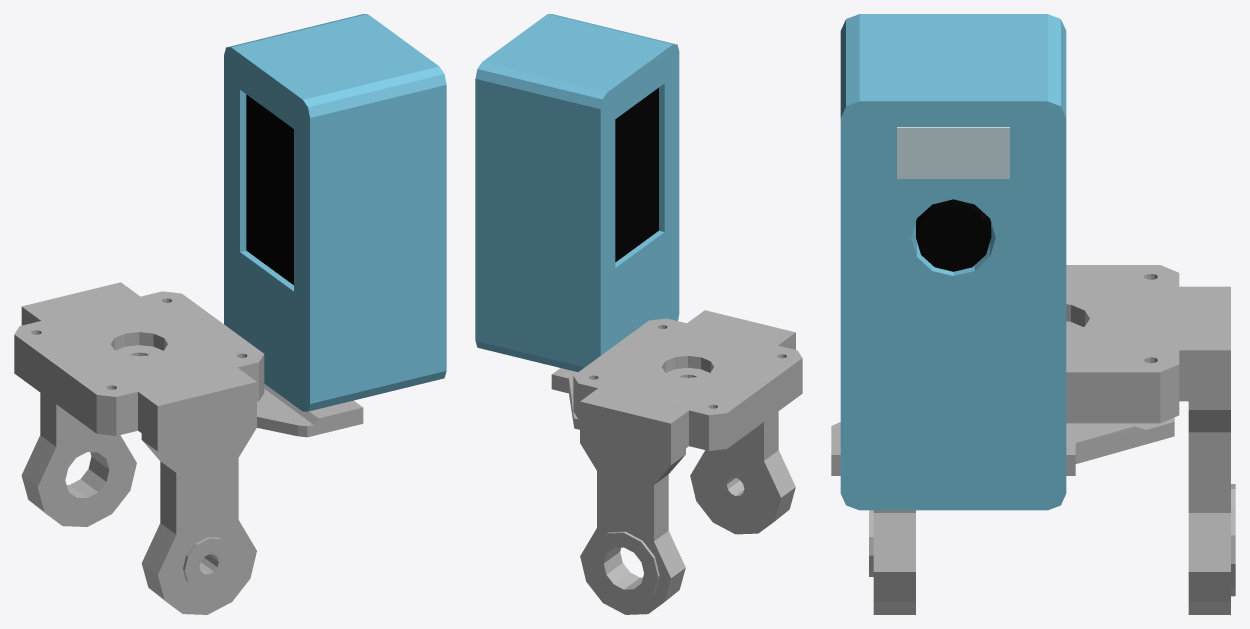
Rendered from head-leye-y_mesh.glb.
The picture shows the model from 3 angles, left to right: view 1: azimuth 30°, elevation 25°; view 2: azimuth 150°, elevation 25°; view 3: azimuth 270°, elevation 25°; orthographic projection. The views are drawn at different scales.
Parts seen in each view (by area): view 1: base2_M1KShape4, base2_M1KShape1, base2_M1KShape0, base2_M1KShape2, base2_M1KShape5, base2_M1KShape3; view 2: base2_M1KShape4, base2_M1KShape2, base2_M1KShape0, base2_M1KShape1, base2_M1KShape5, base2_M1KShape3; view 3: base2_M1KShape4, base2_M1KShape0, base2_M1KShape2, base2_M1KShape7, base2_M1KShape1, base2_M1KShape6, base2_M1KShape3.
Boxes of the visible parts, x1,y1,x2,y2 form: base2_M1KShape4: [224, 14, 446, 411]; base2_M1KShape1: [138, 367, 256, 614]; base2_M1KShape0: [14, 291, 264, 435]; base2_M1KShape2: [21, 282, 139, 526]; base2_M1KShape5: [246, 94, 293, 284]; base2_M1KShape3: [257, 384, 363, 437]; base2_M1KShape4: [475, 14, 679, 371]; base2_M1KShape2: [580, 388, 688, 614]; base2_M1KShape0: [573, 318, 802, 450]; base2_M1KShape1: [687, 310, 795, 534]; base2_M1KShape5: [615, 87, 658, 262]; base2_M1KShape3: [551, 368, 579, 429]; base2_M1KShape4: [840, 14, 1066, 510]; base2_M1KShape0: [1066, 265, 1179, 423]; base2_M1KShape2: [1179, 286, 1235, 614]; base2_M1KShape7: [897, 127, 1009, 178]; base2_M1KShape1: [869, 510, 915, 614]; base2_M1KShape6: [916, 199, 991, 271]; base2_M1KShape3: [831, 417, 1174, 475].
Size of the model in its own units: 0.0502 by 0.0765 by 0.043.
